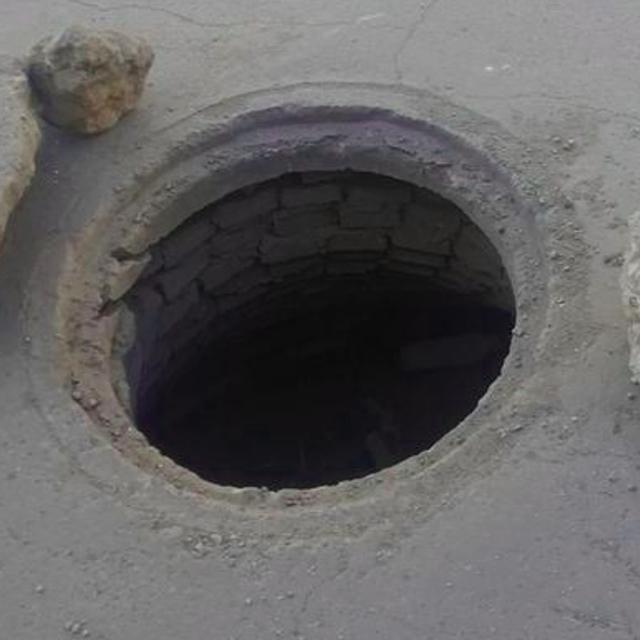lose: (41, 65, 565, 521)
